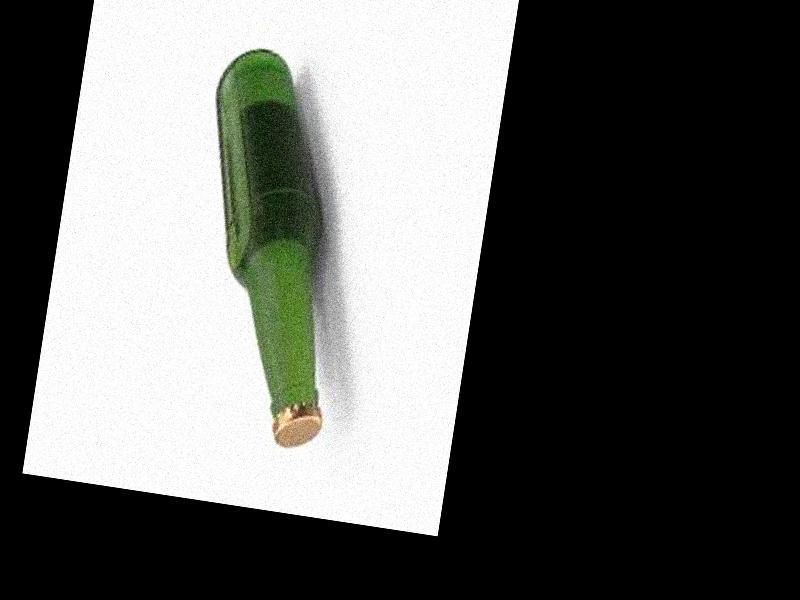Beer: (164, 42, 377, 454)
